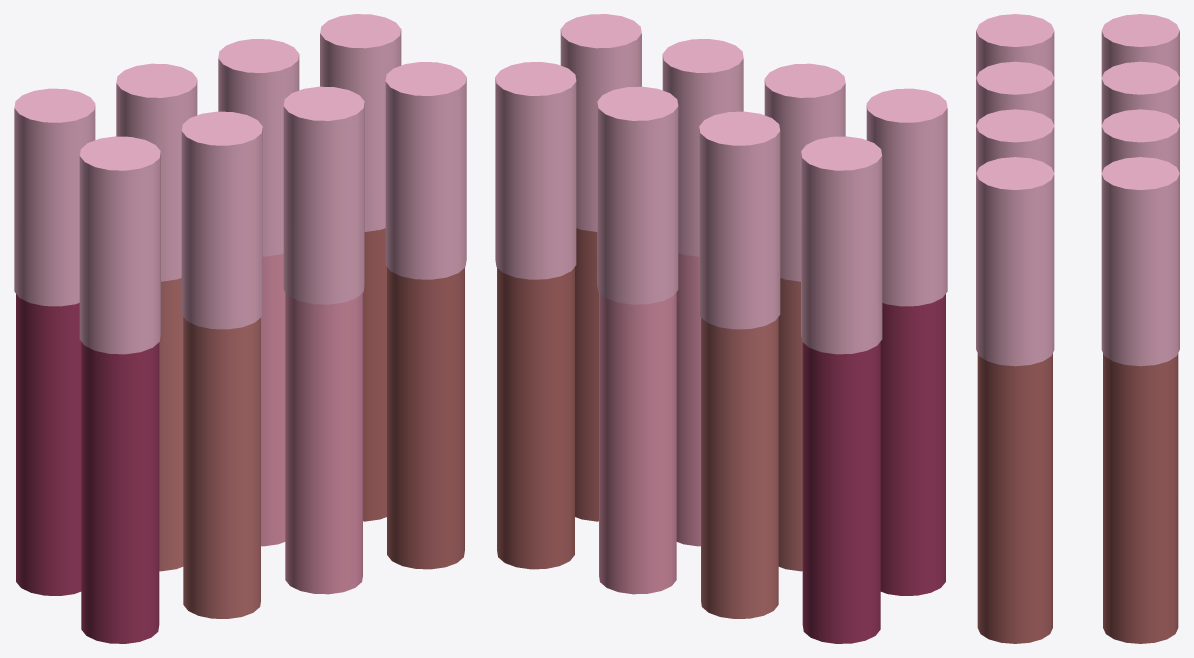
The model's file is TRD-01-04.glb.
3 views of the same model, side by side, from view 1: azimuth 30°, elevation 25°; view 2: azimuth 150°, elevation 25°; view 3: azimuth 270°, elevation 25° (orthographic). The views are drawn at different scales.
Visible parts, largest first — view 1: TRD-01-04; view 2: TRD-01-04; view 3: TRD-01-04.
Part boxes in pixels (x1,y1,x2,y2): TRD-01-04: [14, 14, 466, 643]; TRD-01-04: [495, 14, 947, 643]; TRD-01-04: [976, 14, 1179, 643].
Size of the model in its own units: 0.665 by 0.8 by 0.325.
